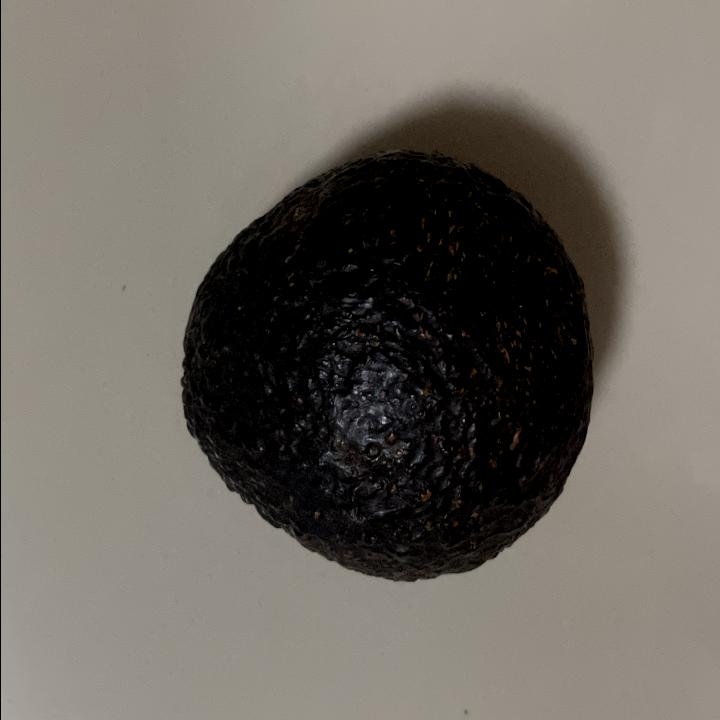Level3: (170, 143, 600, 593)
